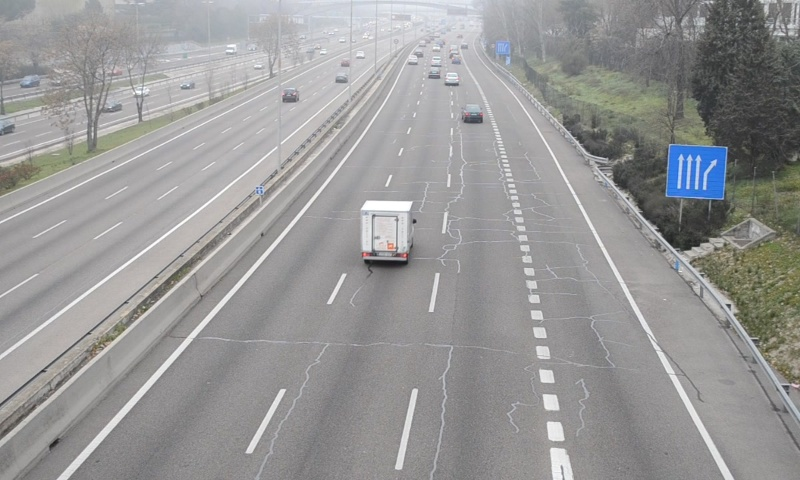car: (460, 103, 484, 124)
small-truck: (360, 201, 416, 263)
